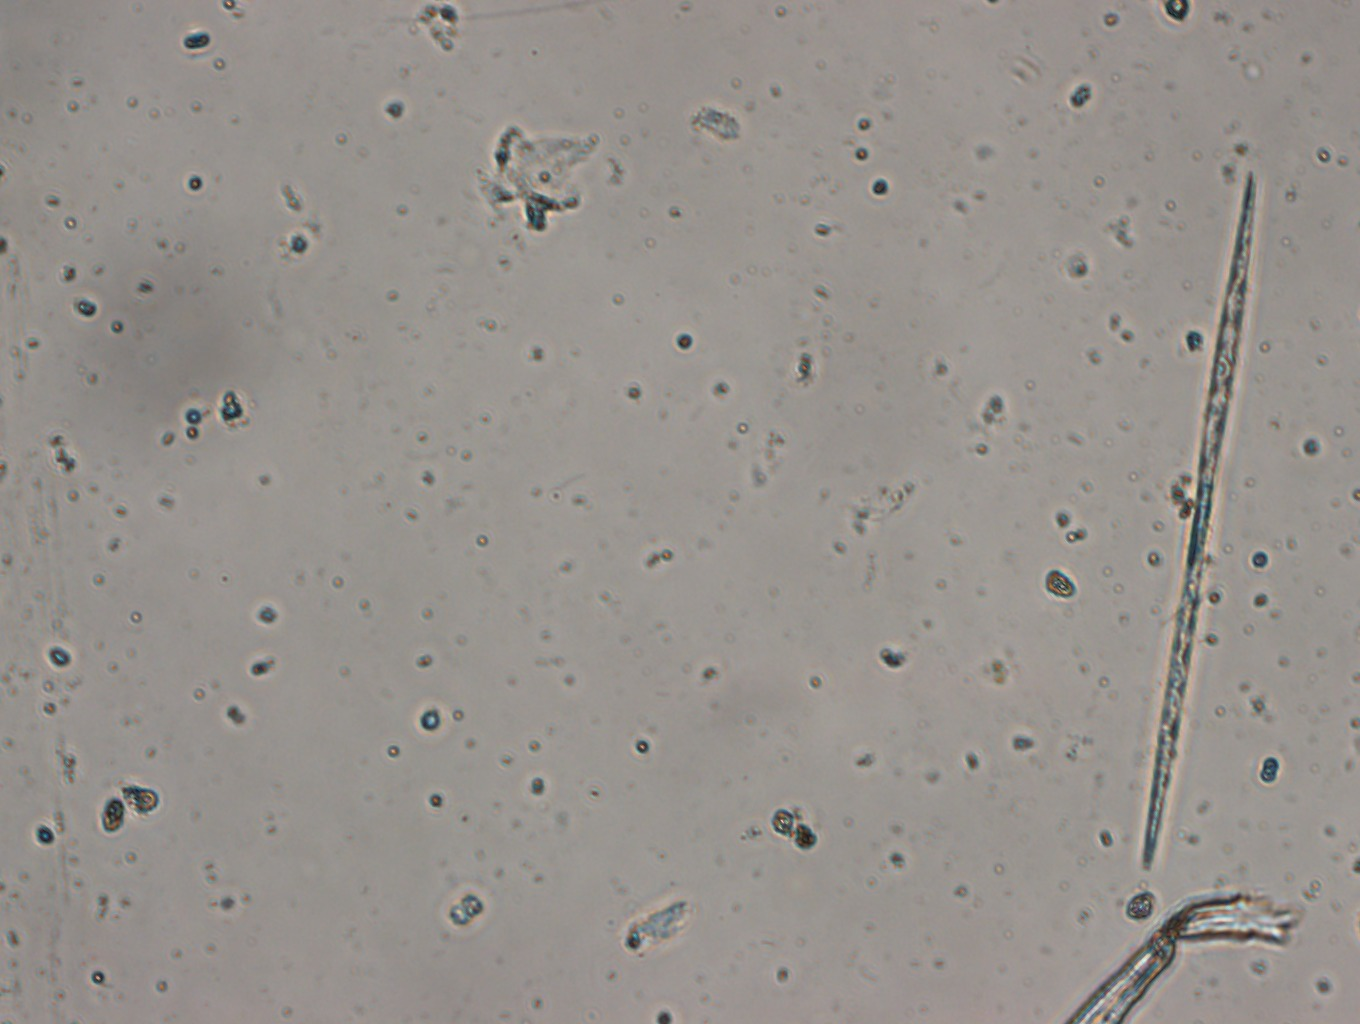ceratium fusus: (1139, 165, 1259, 868)
